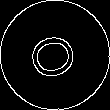O_E: (25, 27, 85, 83)
